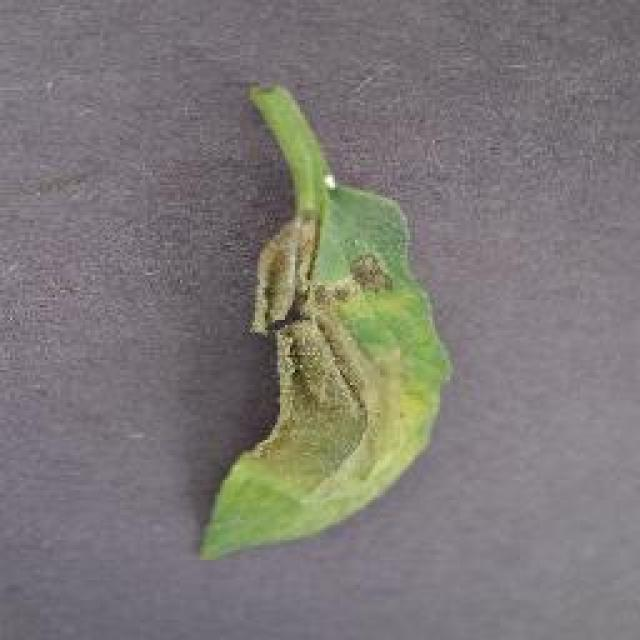Tomato___Late_blight: (205, 88, 450, 560)
